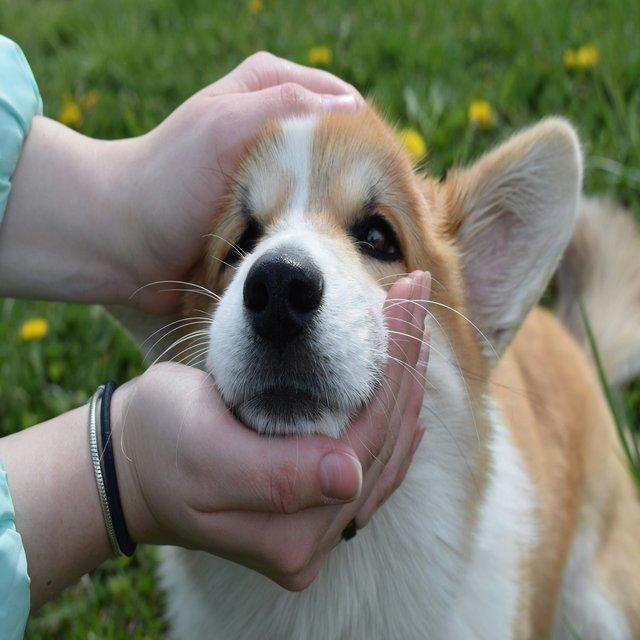corgi: (130, 97, 638, 638)
